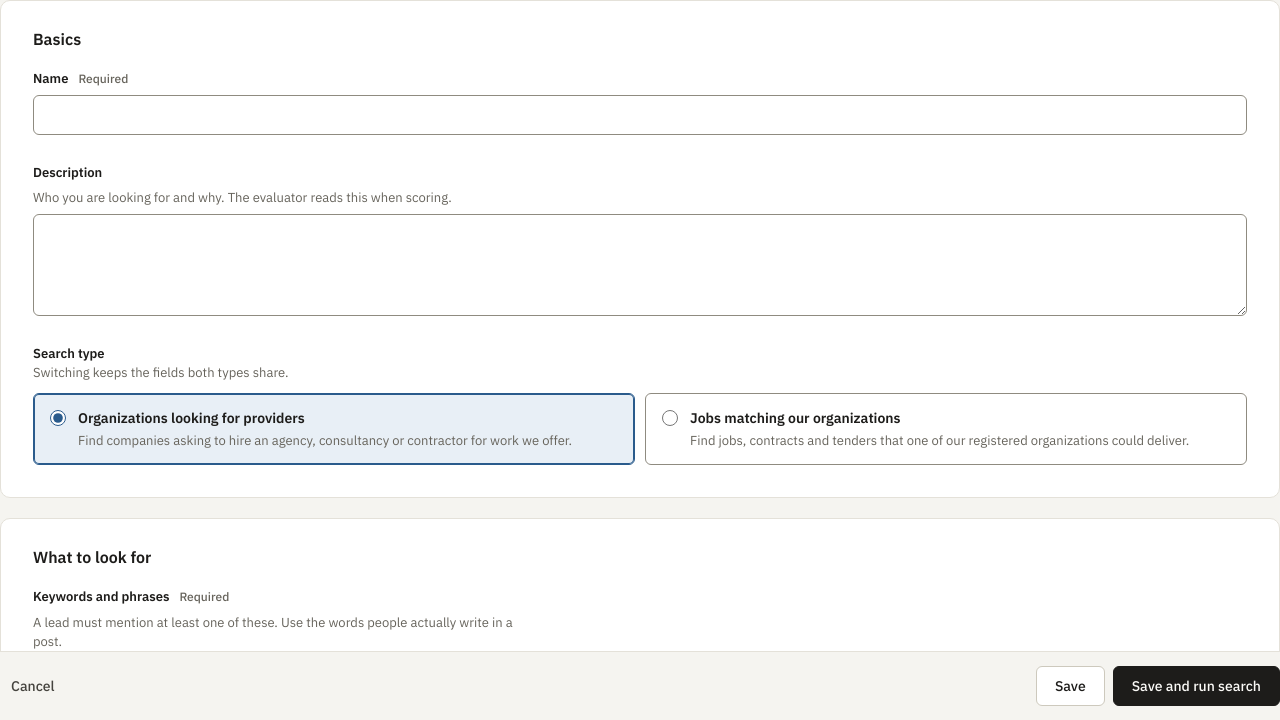
Test: ConfigEditor cancel › asks before throwing away edits
Later steps or results of the test are not shown.
Type "Clinics replacing their patient portal" into the field with id "field-name".
click(640, 114); type("Clinics replacing their patient portal")  # box [33,94,1247,134]
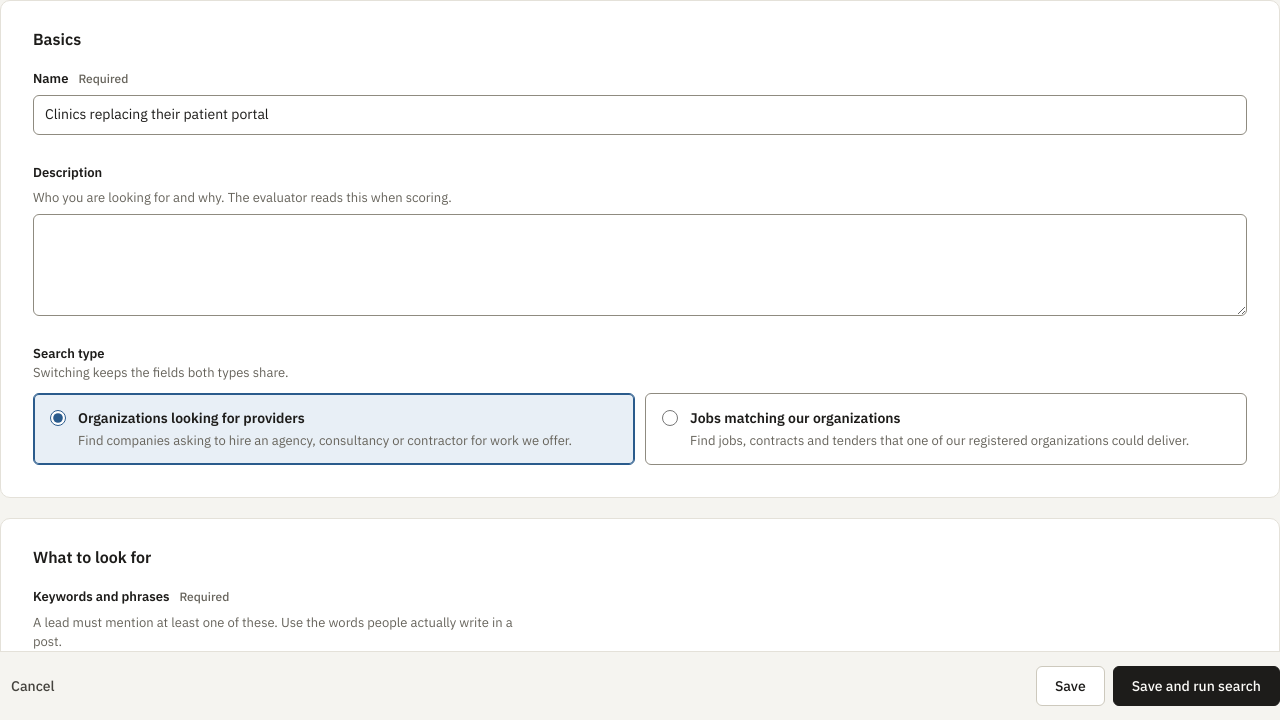
Click the link "Cancel".
click(33, 686)  # box [11,677,54,695]
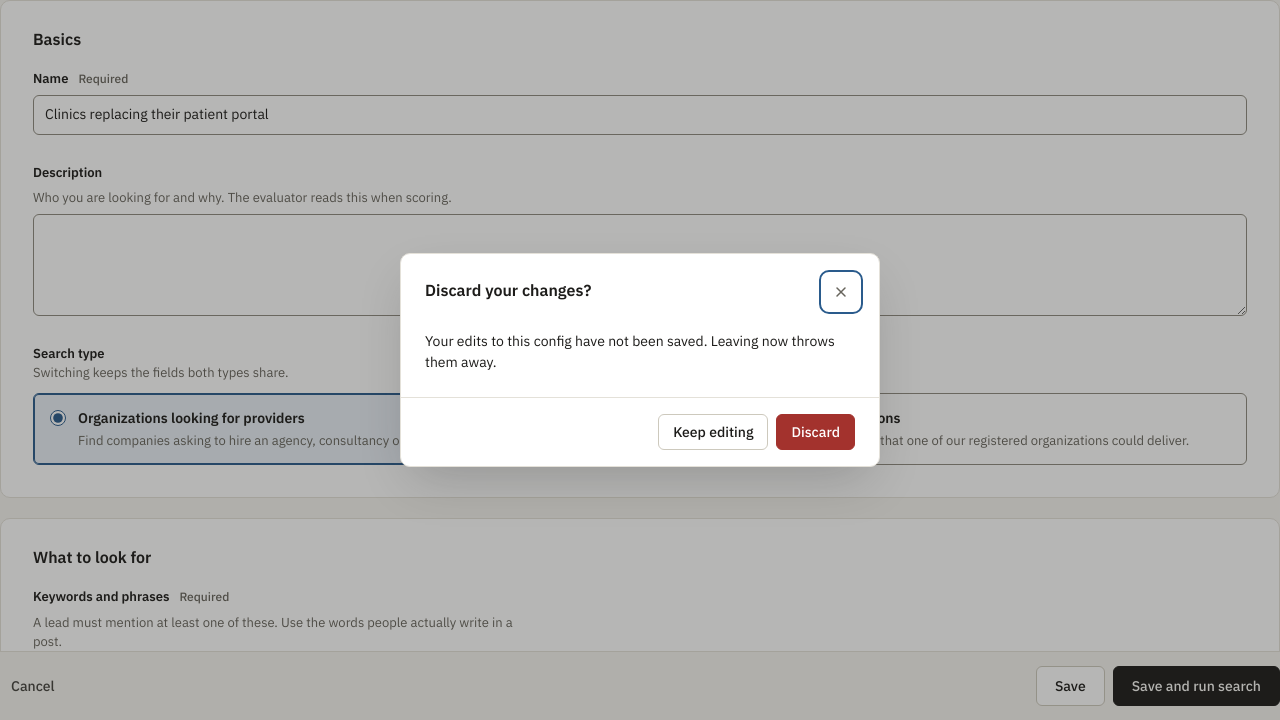
Expected: the heading "Discard your changes?" is shown, [425,274,591,300]
Click the button "Keep editing".
click(713, 432)  # box [658,414,768,450]
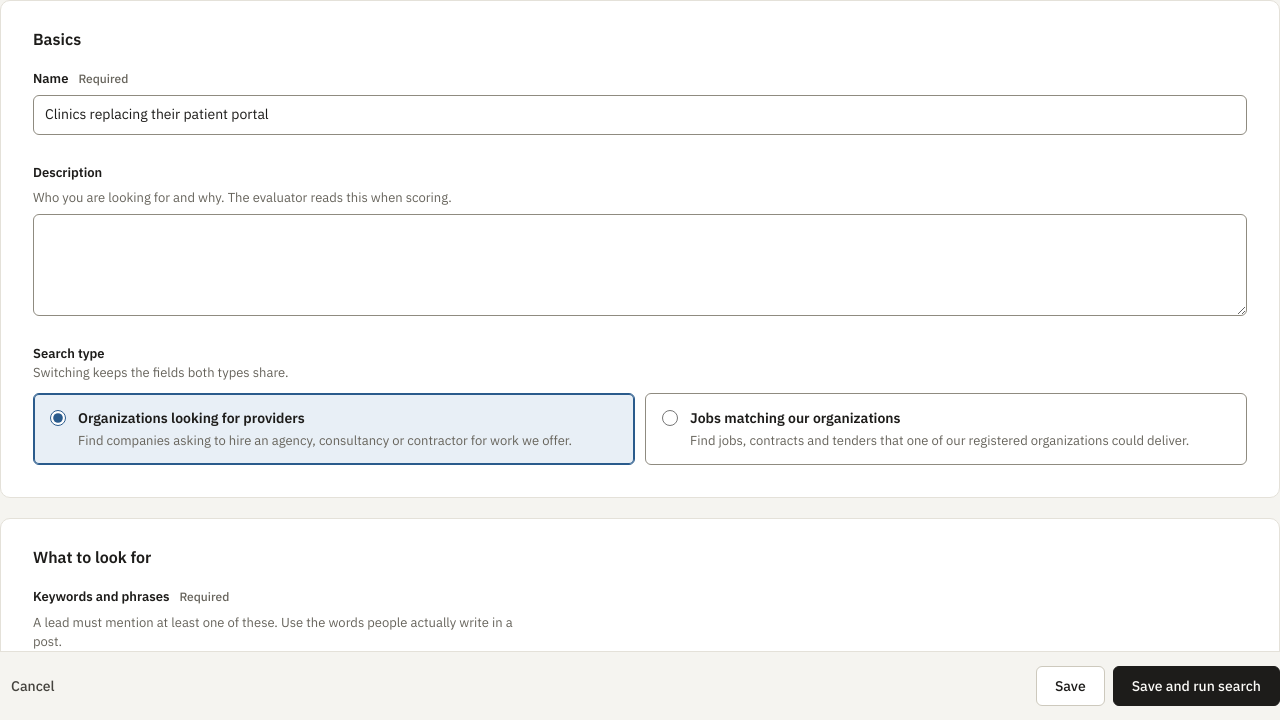
Expected: the heading "Discard your changes?" is gone
